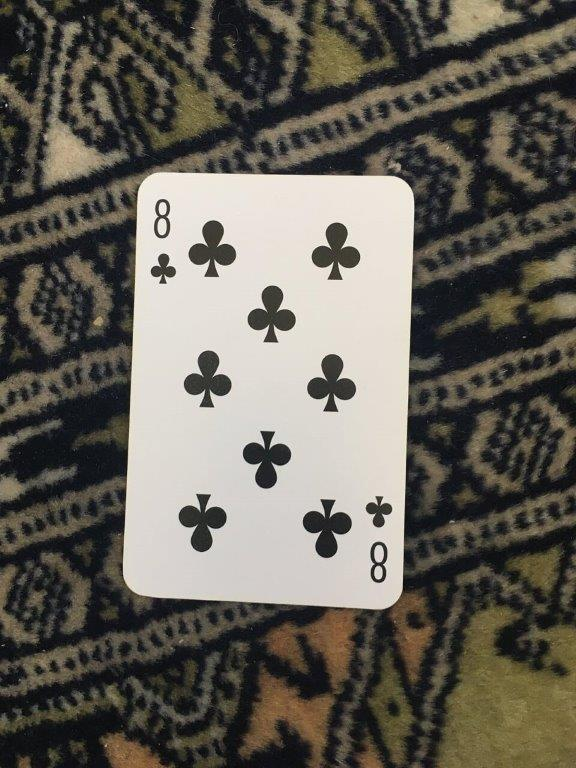8C: (119, 169, 418, 614)
